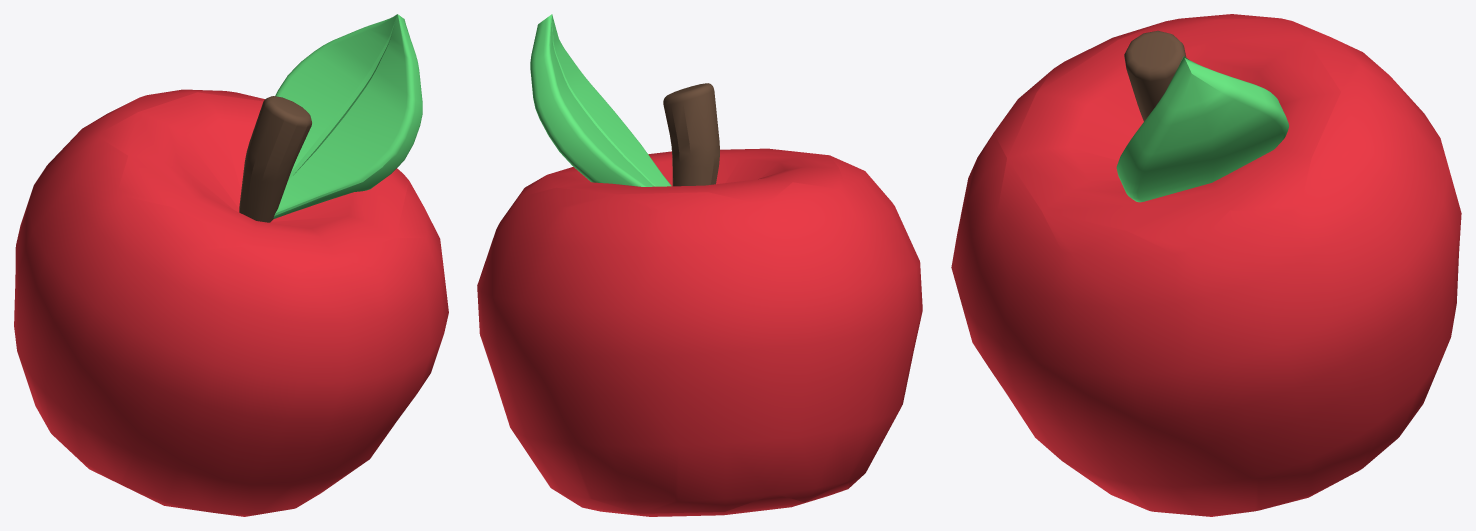
Rendered from low-poly_apple.glb.
3 views of the same model, side by side, from view 1: azimuth 30°, elevation 25°; view 2: azimuth 150°, elevation 25°; view 3: azimuth 270°, elevation 25° (orthographic). The views are drawn at different scales.
Visible parts, largest first — view 1: Apple; view 2: Apple; view 3: Apple.
Boxes of the visible parts, x1=… form: Apple: x1=14, y1=14, x2=448, y2=516; Apple: x1=477, y1=14, x2=922, y2=516; Apple: x1=951, y1=14, x2=1461, y2=516.
Bounding box in the file's own units: 1.63 × 1.8 × 1.64.
